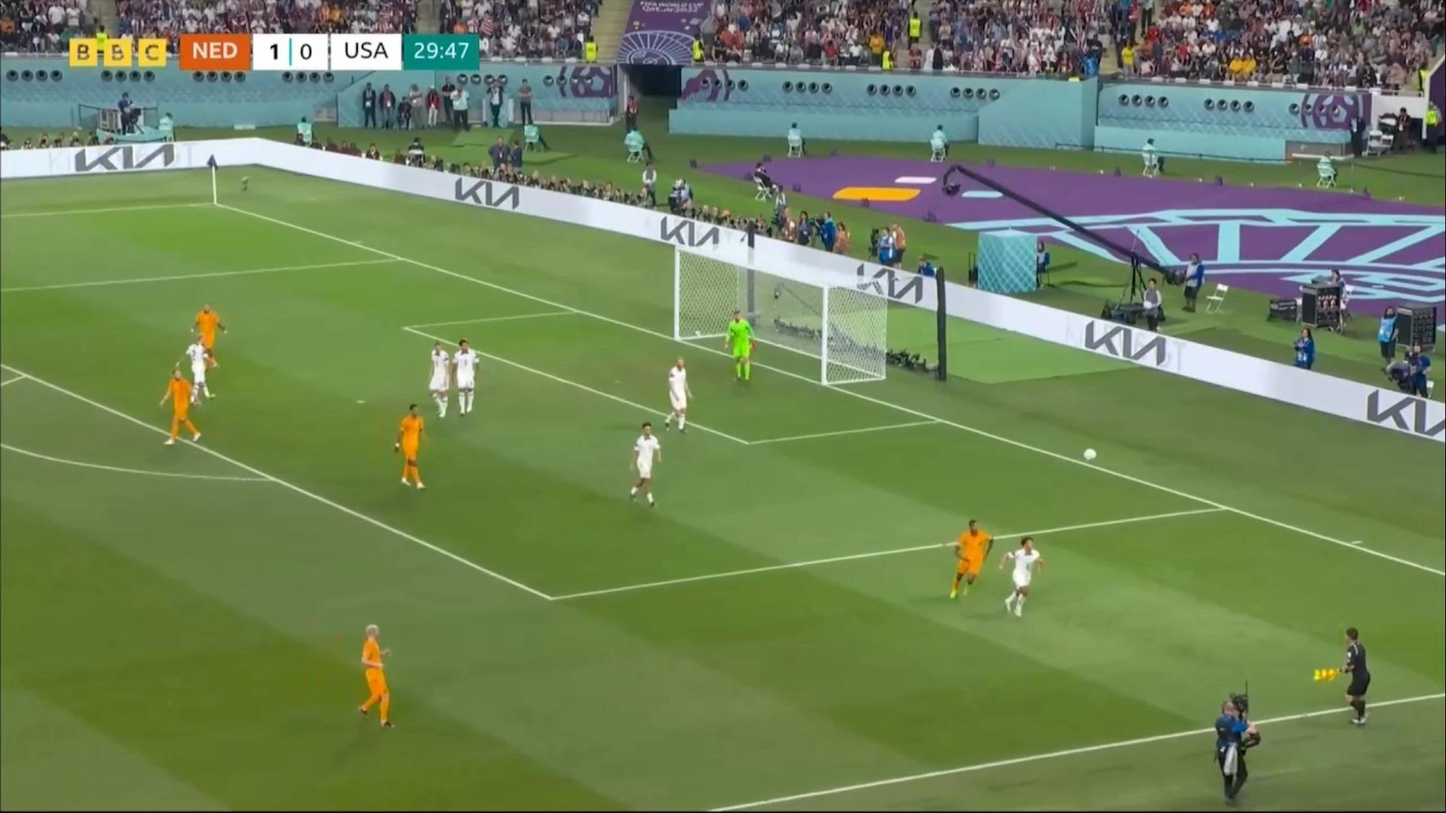Ball: (1081, 447, 1099, 464)
Player: (353, 624, 401, 734), (1214, 700, 1259, 806), (941, 519, 994, 607), (1000, 535, 1048, 622), (390, 404, 436, 494), (161, 364, 208, 449), (423, 339, 467, 422), (623, 423, 663, 512), (445, 337, 485, 421), (189, 300, 229, 375), (663, 358, 699, 436), (724, 309, 757, 385), (183, 329, 212, 408), (1181, 253, 1205, 313)
Ref: (1334, 622, 1376, 732)
